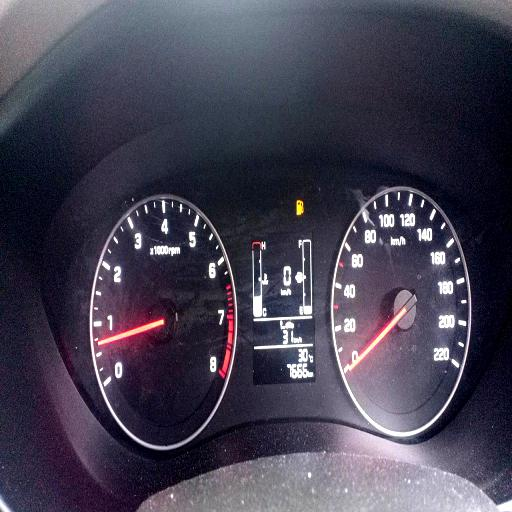tachometer: (88, 191, 238, 451)
